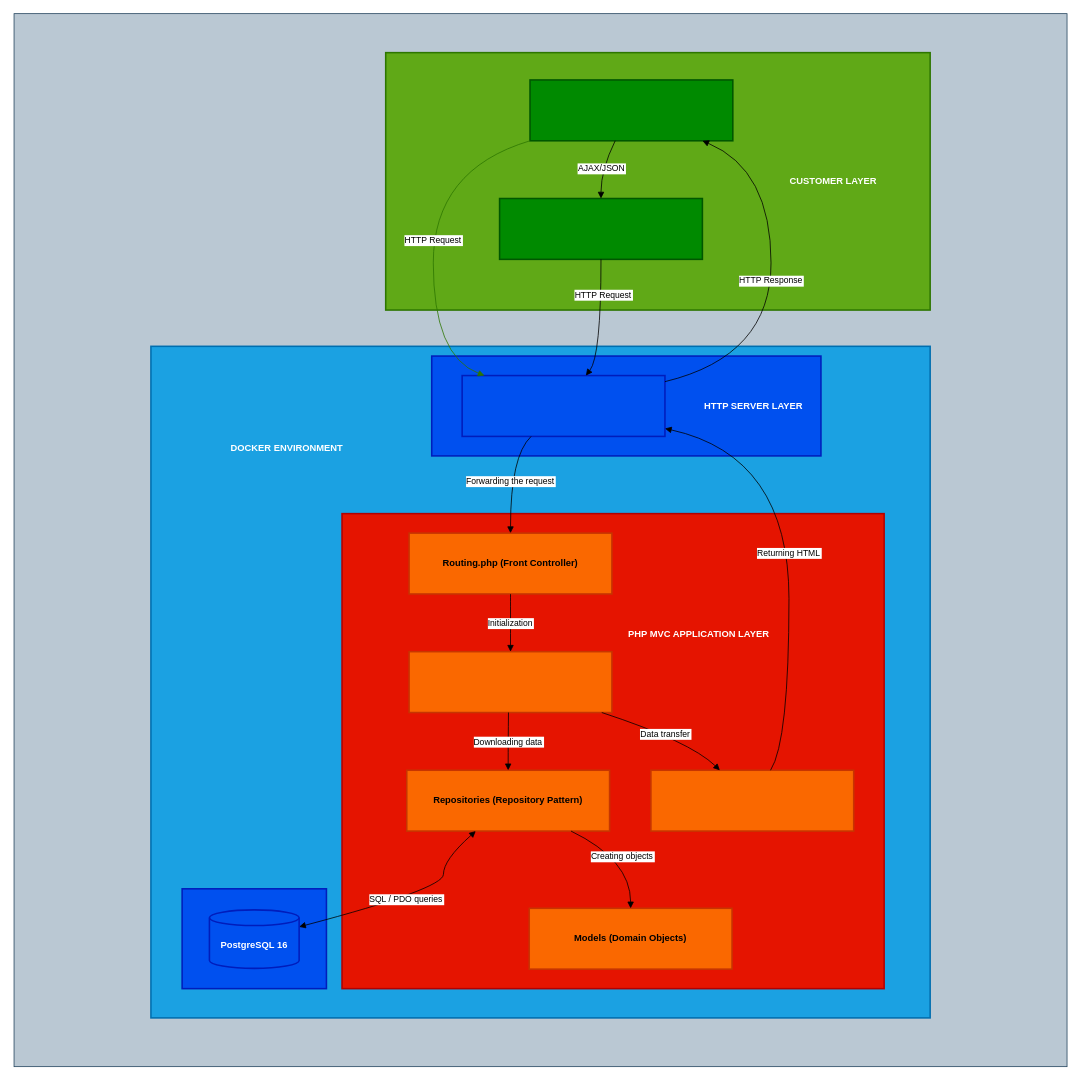
Image size: 1080x1080. Some labels were removed from this diagram. The shapes that lost their labels are listed below. From the top down, each one's centre as x and y in pixels, then its label:
At pixel 631 110: "Browser (HTML5, CSS3, JS)".
At pixel 600 228: "Fetch API (Asynchronous Requests)".
At pixel 563 405: "Nginx (Reverse Proxy / Port 80)".
At pixel 510 682: "Controllers (e.g. StoreController)".
At pixel 752 800: "Views (.html files / Rendering)".
